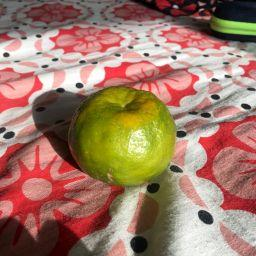orange: (67, 85, 178, 188)
